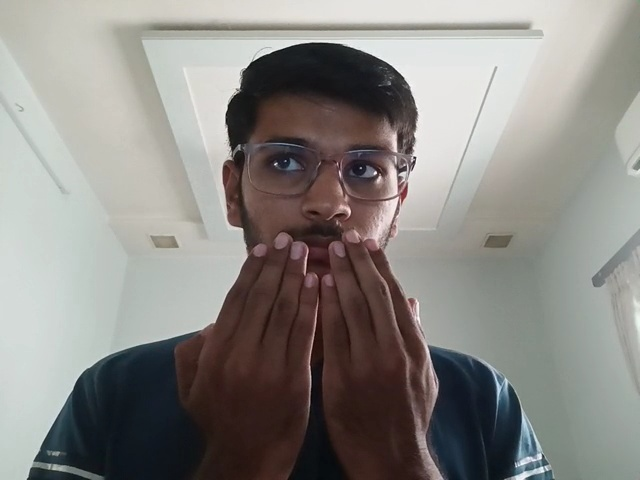Thank You: (162, 228, 458, 457)
